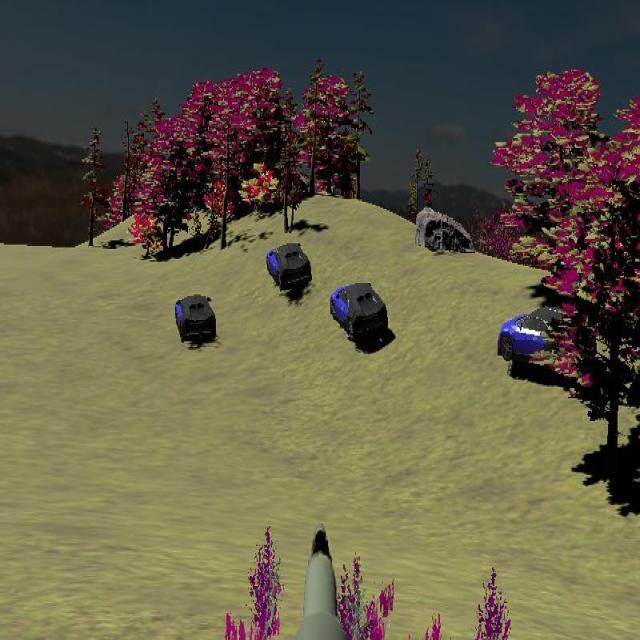car: (497, 307, 596, 380), (329, 281, 388, 343), (266, 241, 312, 293), (175, 292, 217, 344)
